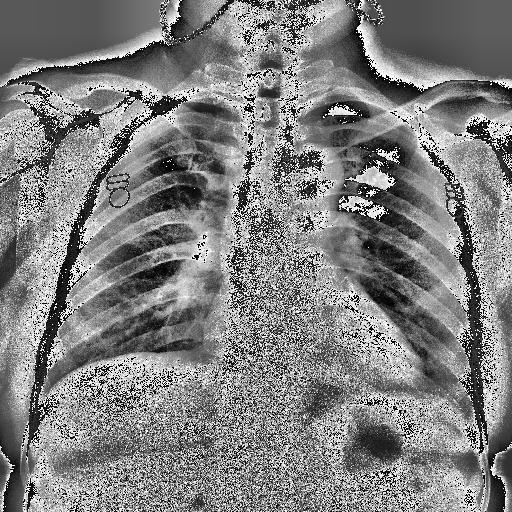0- Aortic enlargement: (282, 144, 344, 228), (280, 143, 345, 211), (289, 141, 343, 189)
3- Cardiomegaly: (200, 322, 424, 396)
